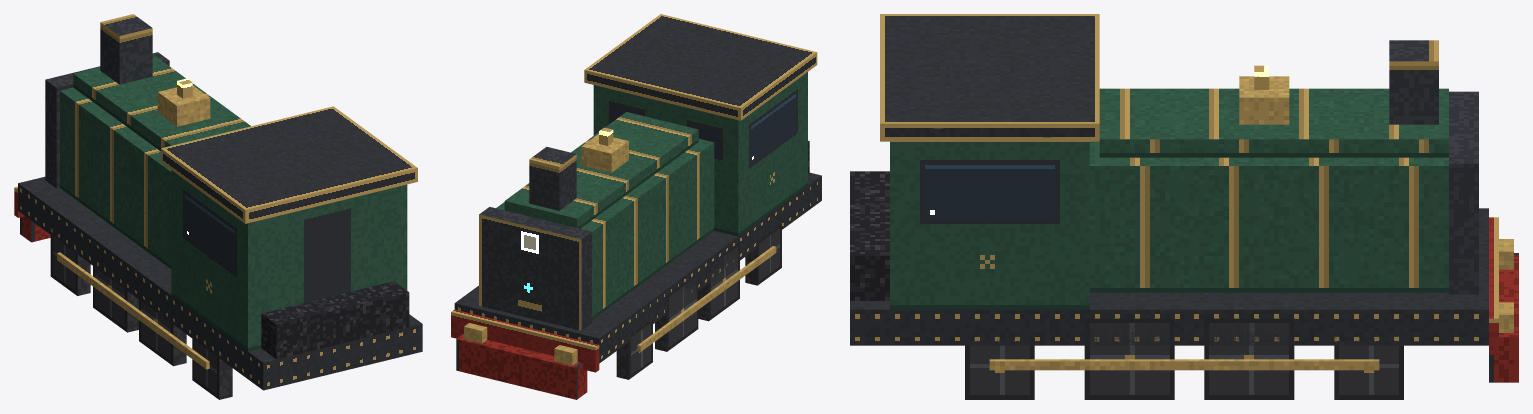
Rendered from train_engine.glb.
3 renders of one model, left to right at view 1: azimuth 30°, elevation 25°; view 2: azimuth 150°, elevation 25°; view 3: azimuth 270°, elevation 25°, orthographic. The views are drawn at different scales.
Visible parts, largest first — view 1: train_engine_cab, train_engine_cab_roof, train_engine_frame, train_engine_boiler, train_engine_coal, train_engine_boiler_top, train_engine_chimney, train_engine_smokebox, train_engine_rod_l, train_engine_dome, train_engine_wheel_l3, train_engine_wheel_l2 (+3 smaller); view 2: train_engine_cab_roof, train_engine_cab, train_engine_boiler, train_engine_smokebox, train_engine_frame, train_engine_boiler_top, train_engine_cowcatcher, train_engine_buffer_beam, train_engine_chimney, train_engine_wheel_l1, train_engine_wheel_l2, train_engine_wheel_l0 (+5 smaller); view 3: train_engine_boiler, train_engine_cab, train_engine_frame, train_engine_cab_roof, train_engine_boiler_top, train_engine_wheel_r1, train_engine_wheel_r2, train_engine_smokebox, train_engine_coal, train_engine_rod_r, train_engine_chimney, train_engine_wheel_r3 (+4 smaller).
Boxes of the visible parts, x1,y1,x2,y2 form: train_engine_cab: (171, 170, 407, 351); train_engine_cab_roof: (161, 106, 417, 223); train_engine_frame: (18, 176, 422, 390); train_engine_boiler: (60, 87, 171, 268); train_engine_coal: (261, 281, 409, 359); train_engine_boiler_top: (73, 54, 250, 151); train_engine_chimney: (100, 14, 152, 84); train_engine_smokebox: (45, 52, 169, 188); train_engine_rod_l: (57, 252, 209, 369); train_engine_dome: (157, 85, 210, 126); train_engine_wheel_l3: (192, 339, 232, 399); train_engine_wheel_l2: (139, 300, 186, 366); train_engine_cab_roof: (584, 14, 817, 120); train_engine_cab: (593, 72, 807, 236); train_engine_boiler: (496, 139, 714, 319); train_engine_smokebox: (479, 207, 591, 330); train_engine_frame: (454, 172, 821, 363); train_engine_boiler_top: (504, 112, 698, 228); train_engine_cowcatcher: (456, 334, 587, 399); train_engine_buffer_beam: (451, 309, 599, 372); train_engine_chimney: (529, 146, 576, 210); train_engine_wheel_l1: (655, 277, 698, 351); train_engine_wheel_l2: (698, 242, 739, 321); train_engine_wheel_l0: (616, 318, 652, 379); train_engine_boiler: (1089, 141, 1448, 292); train_engine_cab: (890, 141, 1089, 309); train_engine_frame: (850, 208, 1488, 345); train_engine_cab_roof: (880, 14, 1099, 141); train_engine_boiler_top: (1099, 88, 1448, 157); train_engine_wheel_r1: (1204, 318, 1294, 399); train_engine_wheel_r2: (1084, 318, 1174, 399); train_engine_smokebox: (1449, 91, 1478, 294); train_engine_coal: (850, 171, 889, 300); train_engine_rod_r: (989, 359, 1379, 370); train_engine_chimney: (1389, 40, 1438, 124); train_engine_wheel_r3: (965, 336, 1034, 399).
Bounding box in the file's own units: 3.25 × 4.12 × 8.38.
1 material, 1 textured.
